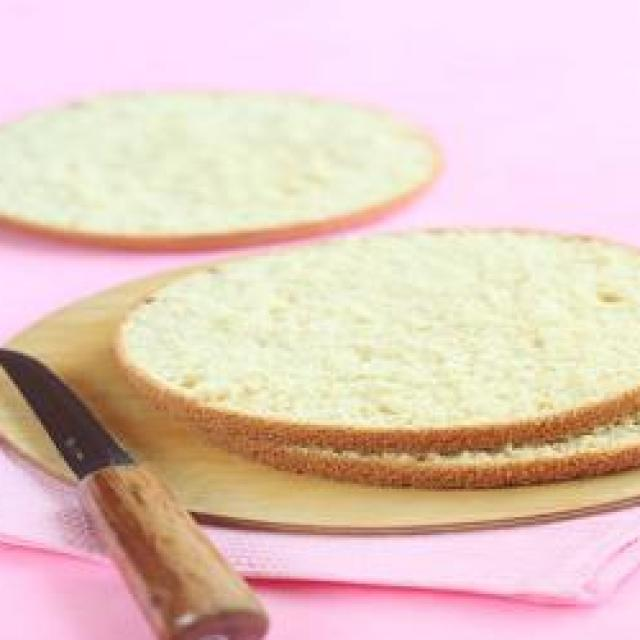knife: (0, 343, 277, 640)
